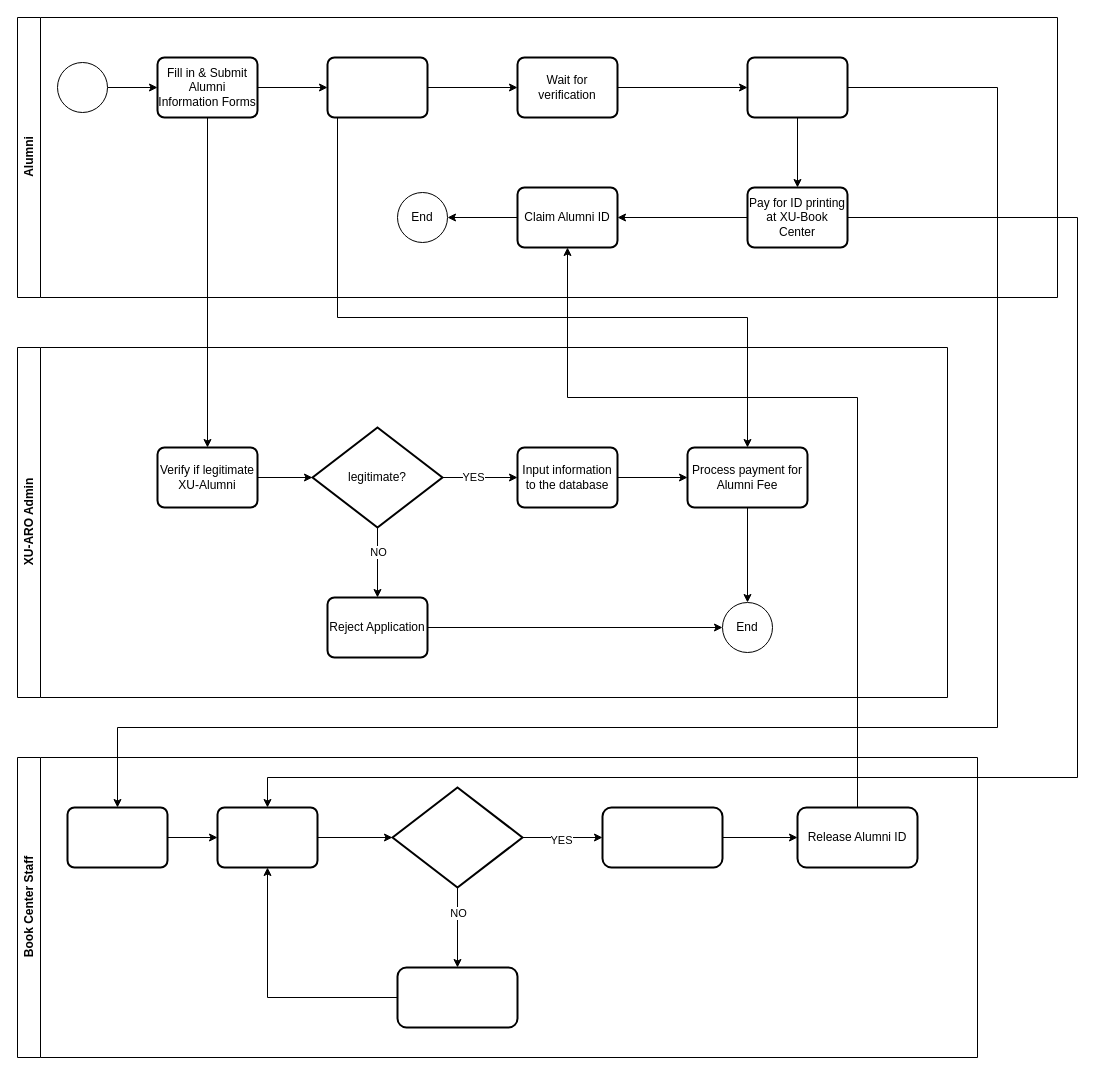
The diagram is 1103 pixels wide and 1075 high, and some of its shapes have lost their labels. The shapes that lost their labels are listed below. From the top down, each one's centre as x and y in pixels, then its label:
At (82,87): "Start".
At (377,87): "Pay for Alumni Fee at XU-ARO".
At (797,87): "Proceed to Book Center for ID Printing (Bring blue form)".
At (117,837): "Input alumni ID information (referring to the blue form)".
At (267,837): "Process payment for ID printing".
At (457,837): "paid?".
At (662,837): "print Alumni ID".
At (457,997): "Hold ID printing until paid".
